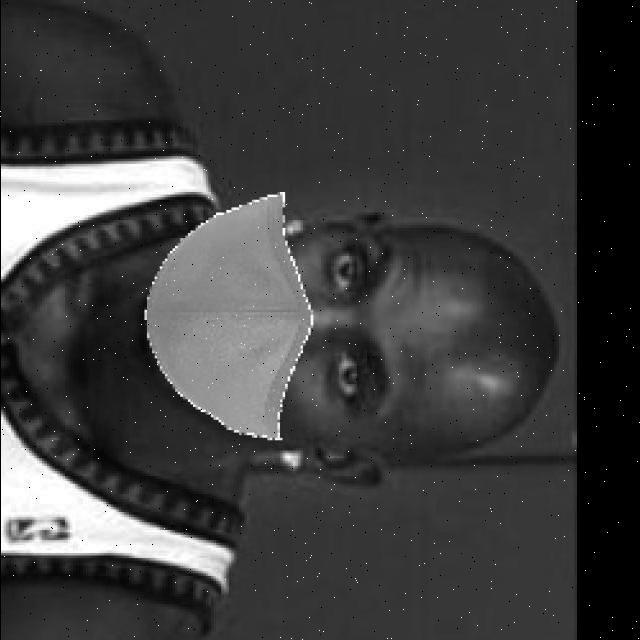mask: (156, 200, 326, 420)
no_gloves: (455, 228, 557, 446)
